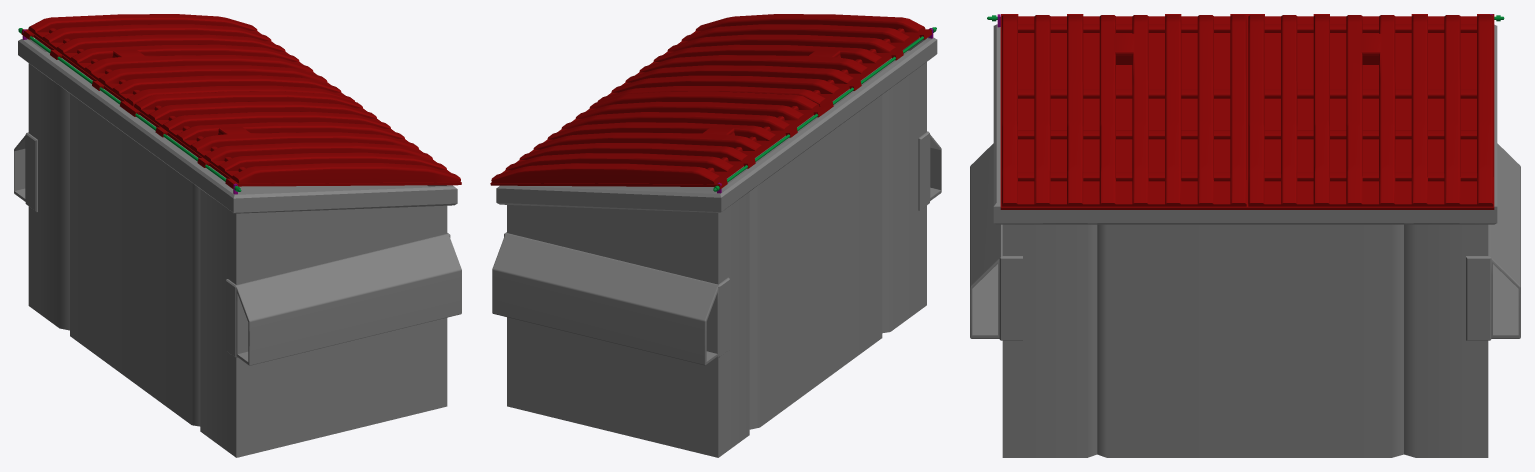
File: Dumpster1.fbx
3 views of the same model, side by side, from view 1: azimuth 30°, elevation 25°; view 2: azimuth 150°, elevation 25°; view 3: azimuth 270°, elevation 25° (orthographic). The views are drawn at different scales.
Parts seen in each view (by area): view 1: DumpsterBase, Lid3, Lid2, DumpsterBar; view 2: DumpsterBase, Lid2, Lid3, DumpsterBar; view 3: DumpsterBase, Lid2, Lid3.
Part boxes in pixels (bbox=[...]): DumpsterBase: bbox=[14, 38, 461, 457]; Lid3: bbox=[127, 91, 461, 188]; Lid2: bbox=[21, 14, 354, 111]; DumpsterBar: bbox=[18, 28, 241, 191]; DumpsterBase: bbox=[492, 37, 941, 457]; Lid2: bbox=[490, 91, 826, 189]; Lid3: bbox=[597, 14, 932, 111]; DumpsterBar: bbox=[713, 27, 936, 191]; DumpsterBase: bbox=[970, 24, 1520, 457]; Lid2: bbox=[1247, 14, 1494, 209]; Lid3: bbox=[1000, 14, 1247, 209].
Size of the model in its own units: 5.25 by 6.12 by 9.27.
